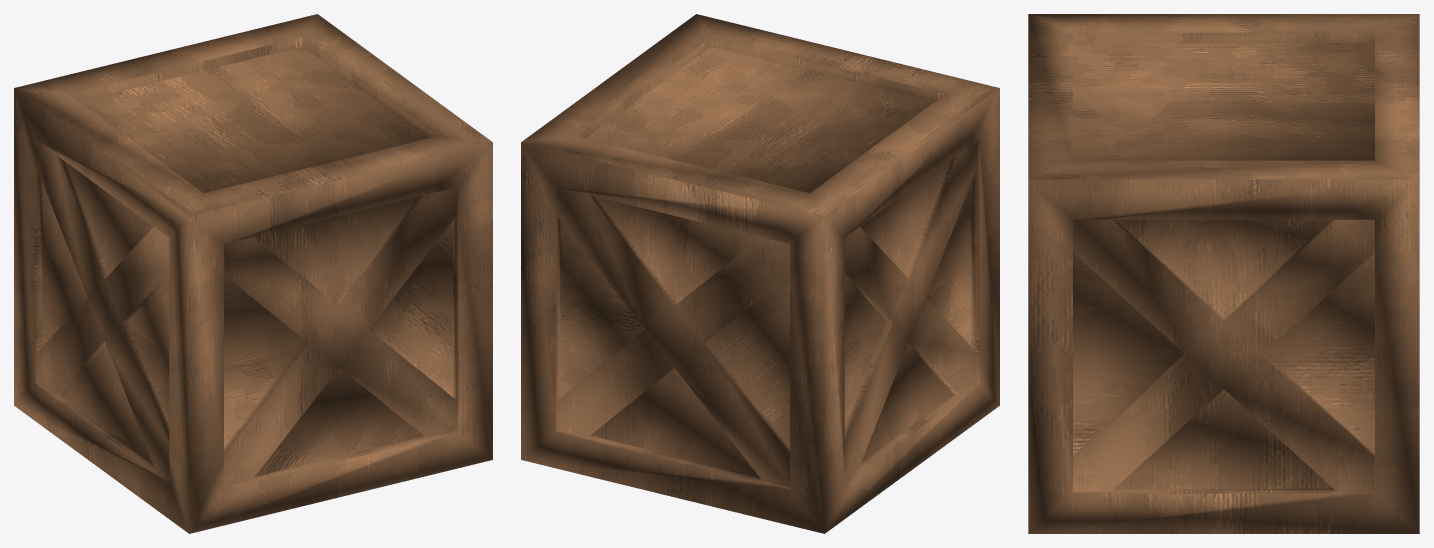
3 renders of one model, left to right at view 1: azimuth 30°, elevation 25°; view 2: azimuth 150°, elevation 25°; view 3: azimuth 270°, elevation 25°, orthographic. The views are drawn at different scales.
Parts seen in each view (by area): view 1: 상자; view 2: 상자; view 3: 상자.
Boxes of the visible parts, x1=… form: 상자: x1=14, y1=14, x2=492, y2=533; 상자: x1=521, y1=14, x2=999, y2=533; 상자: x1=1028, y1=14, x2=1419, y2=533.
Bounding box in the file's own units: 100 × 100 × 100.
1 material, 1 textured.
